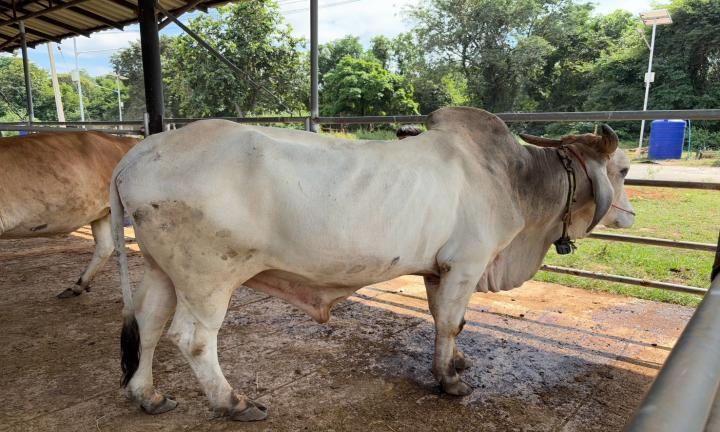Brahman: (110, 106, 634, 420)
